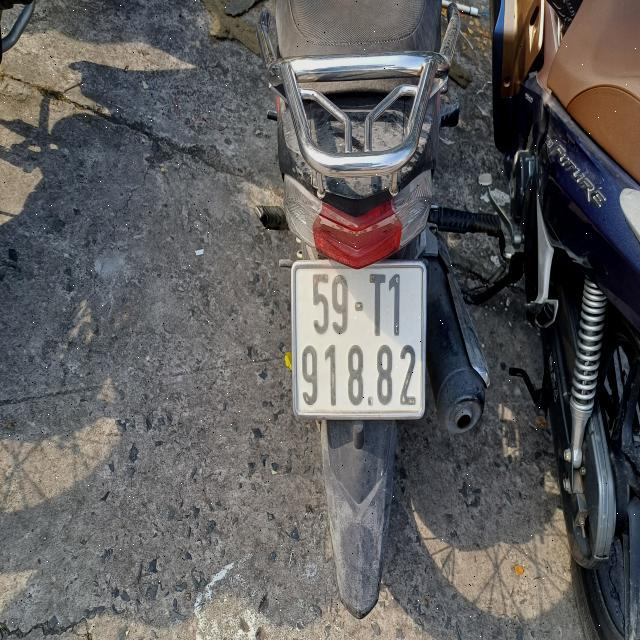1: (387, 272, 406, 338), (321, 342, 340, 407)
2: (400, 344, 420, 410)
5: (312, 271, 330, 336)
8: (375, 343, 395, 404), (346, 346, 366, 404)
9: (297, 341, 319, 407), (330, 273, 352, 336)
T: (366, 270, 388, 337)
